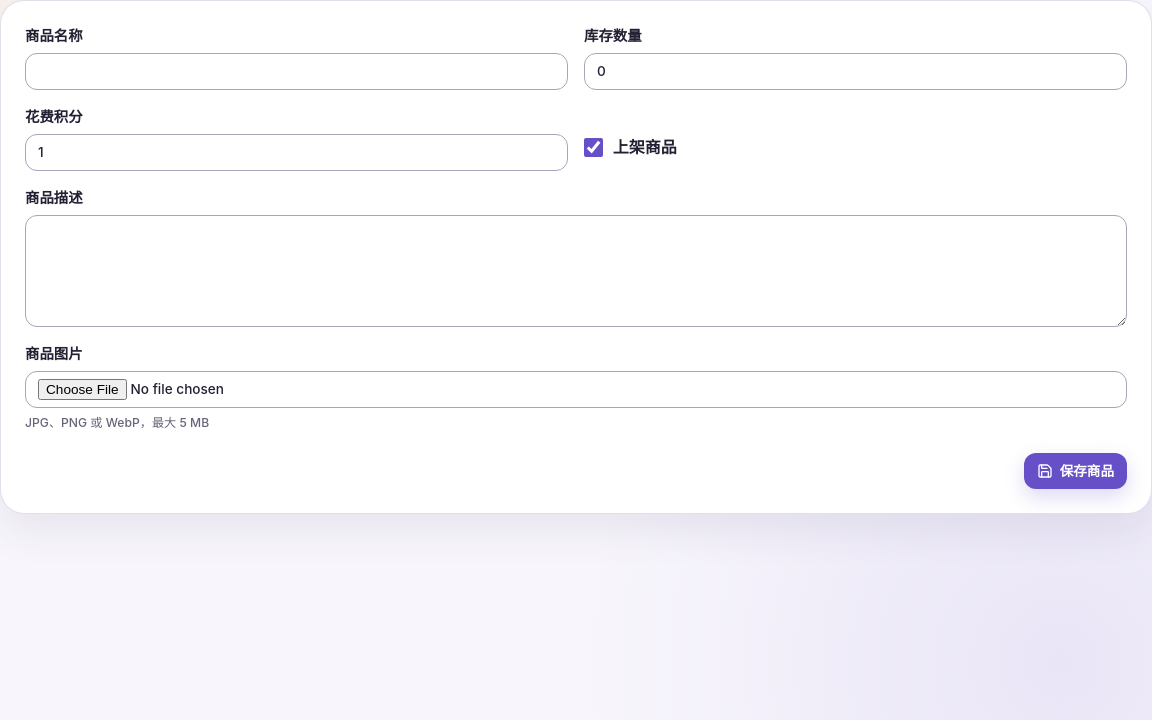
Test: 管理员商品表单 › 校验必填名称、非负库存和正积分
Type "商品说明" into the text box labelled "商品描述". click: (576, 270)
box: [25,214,1127,326]
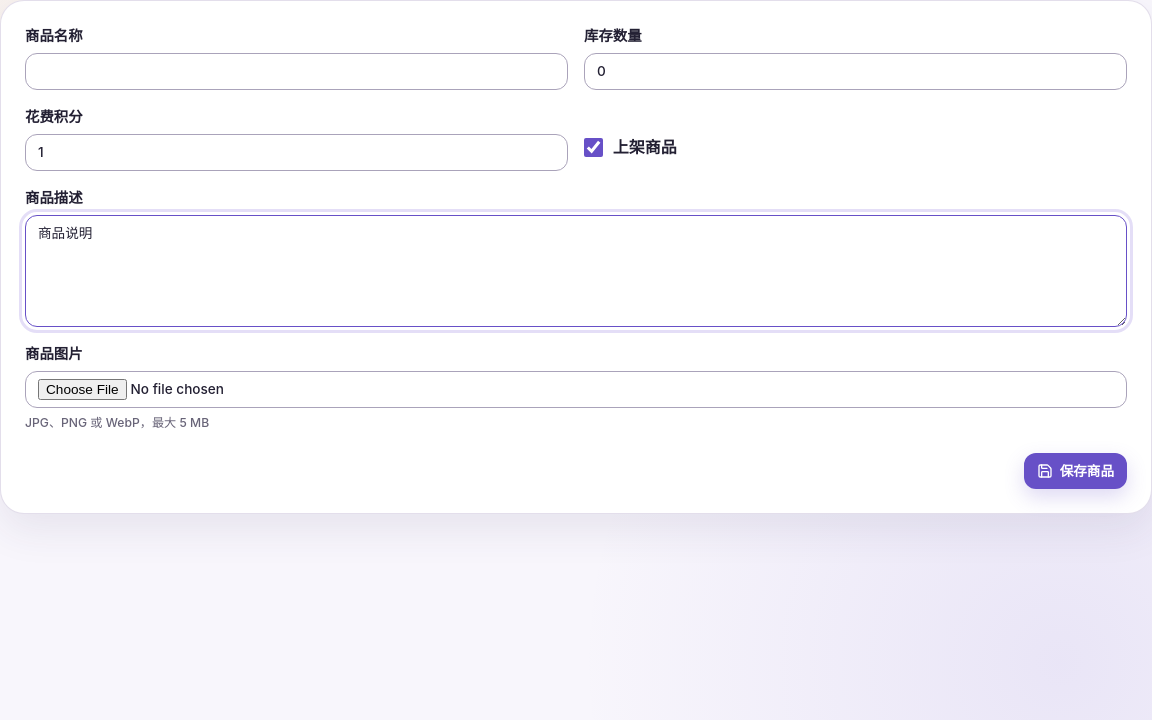
Replace the text in the number field labelled "库存数量" with "-1". click: (856, 71)
box: [584,53,1127,90]
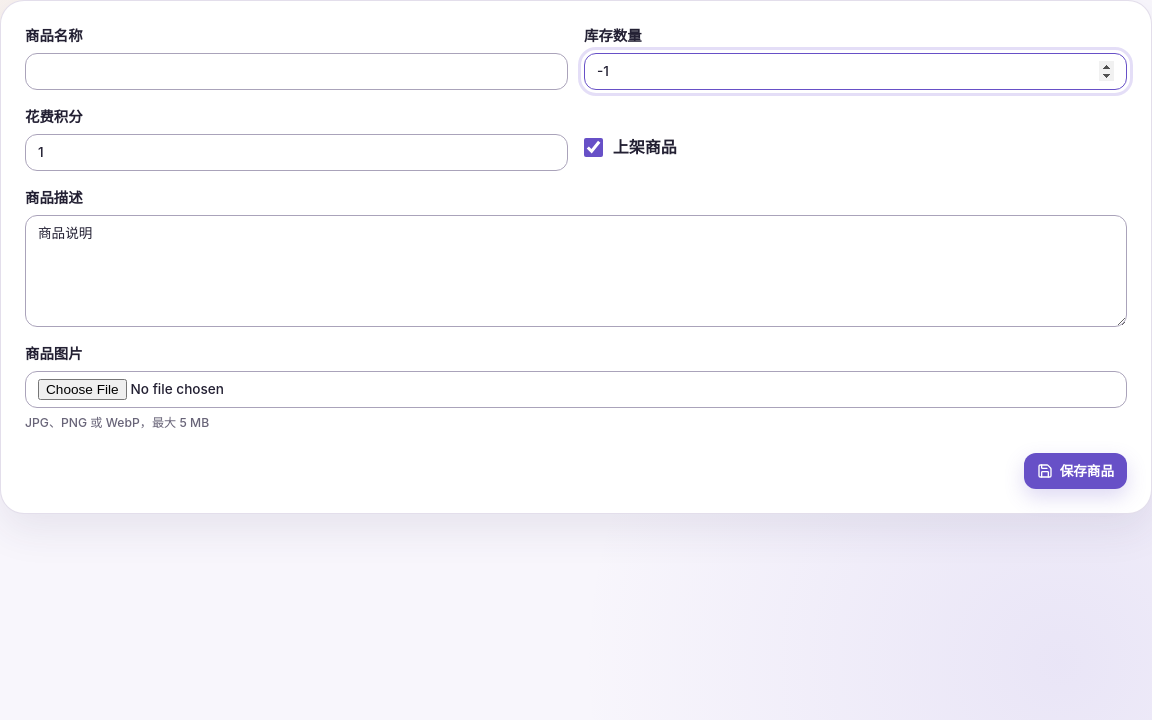
Replace the text in the number field labelled "花费积分" with "0". click: (296, 152)
box: [25,134,568,171]
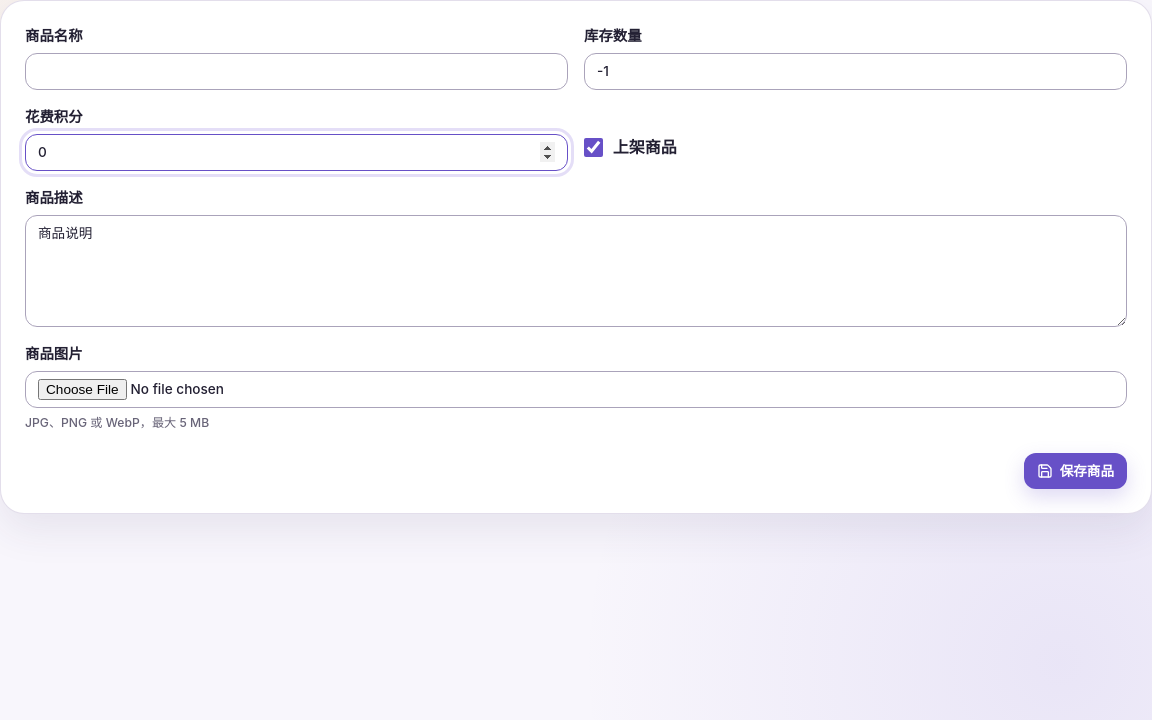
Click the button "保存商品". click: (1076, 471)
box: [1024,452,1127,489]
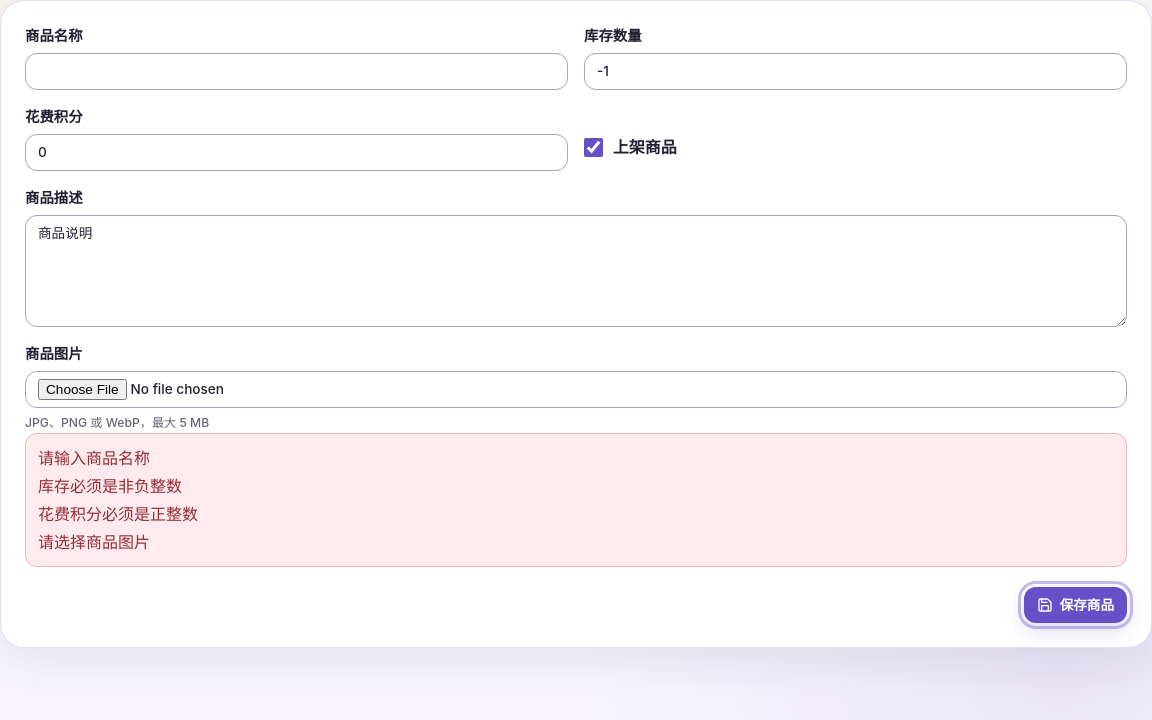
Expected: the message shows "请输入商品名称", [38,448,150,468]
Expected: the message shows "库存必须是非负整数", [38,476,182,496]
Expected: the message shows "花费积分必须是正整数", [38,504,198,524]
